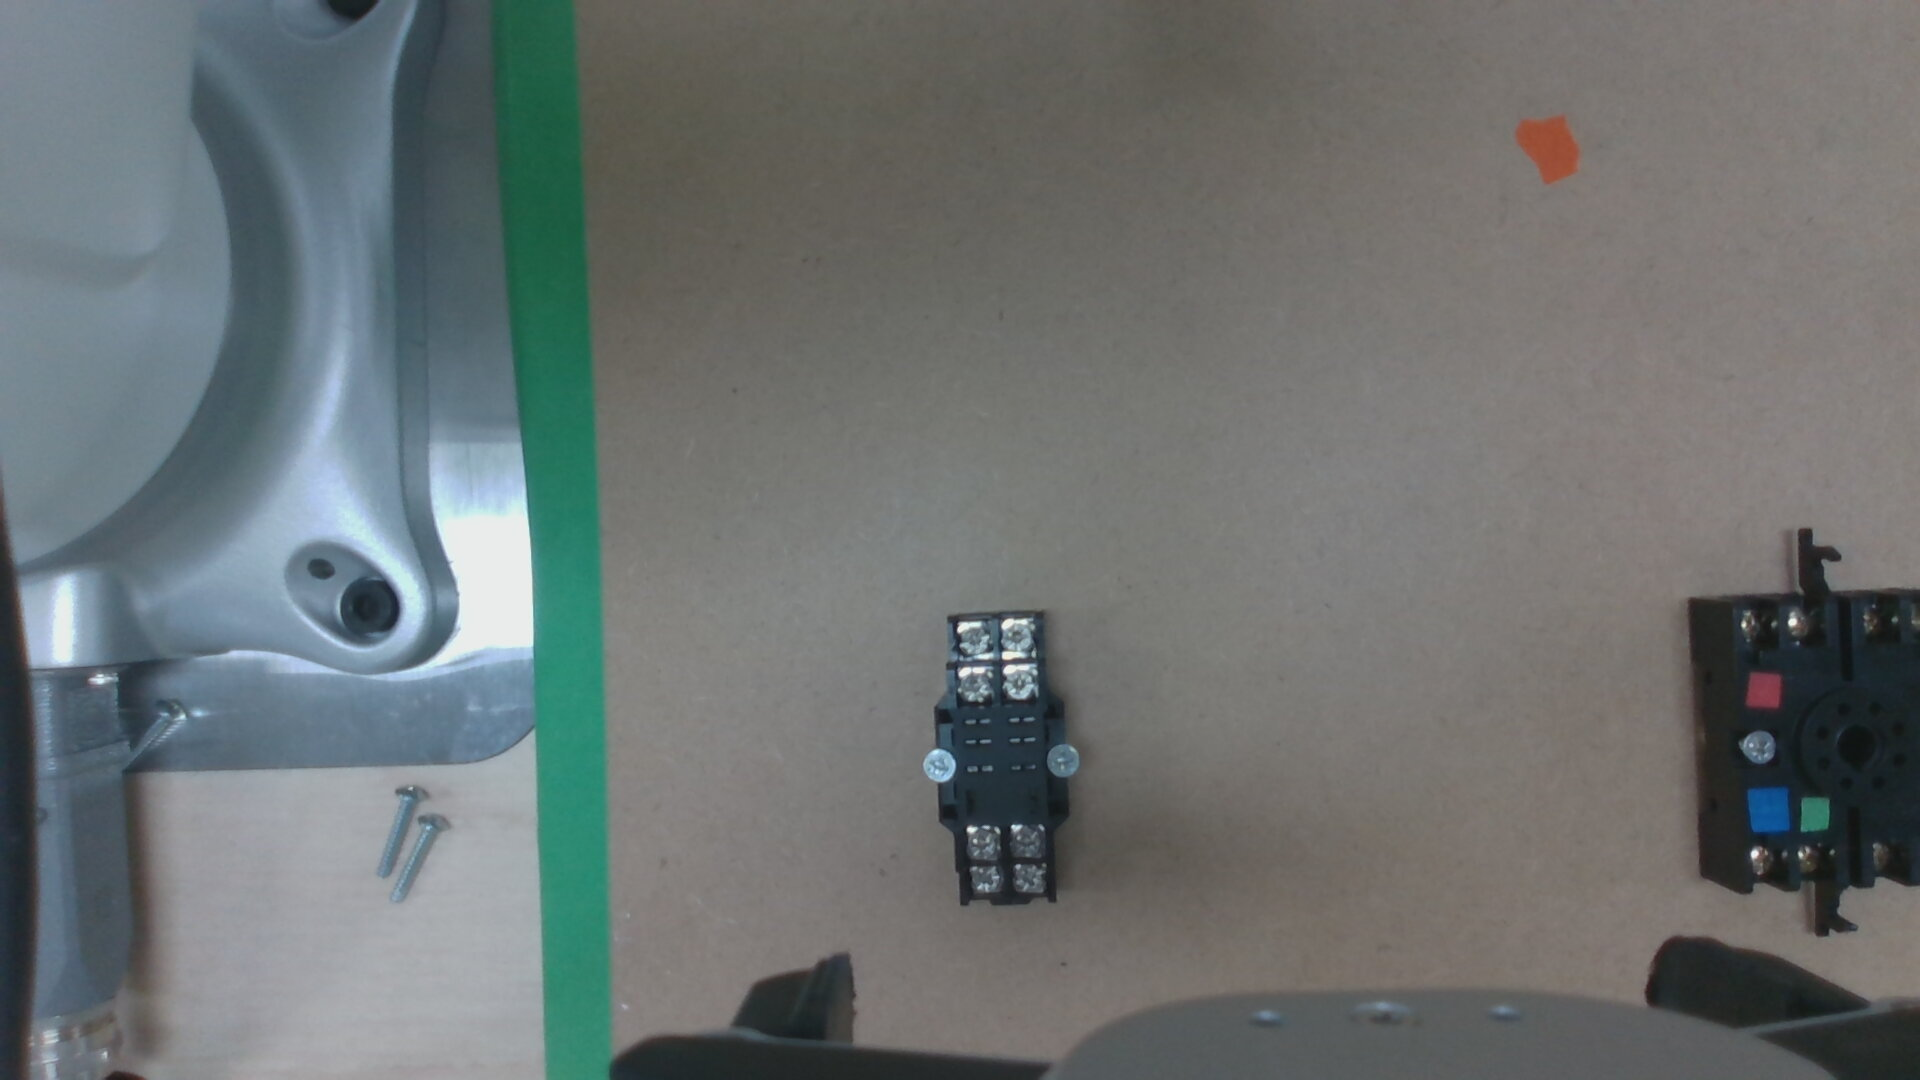relay 3: (1001, 618, 1034, 654)
relay 4: (955, 622, 992, 657)
relay 5: (1010, 865, 1044, 891)
relay 6: (965, 866, 1004, 894)
relay 7: (1010, 825, 1043, 857)
relay 8: (964, 828, 1000, 857)
